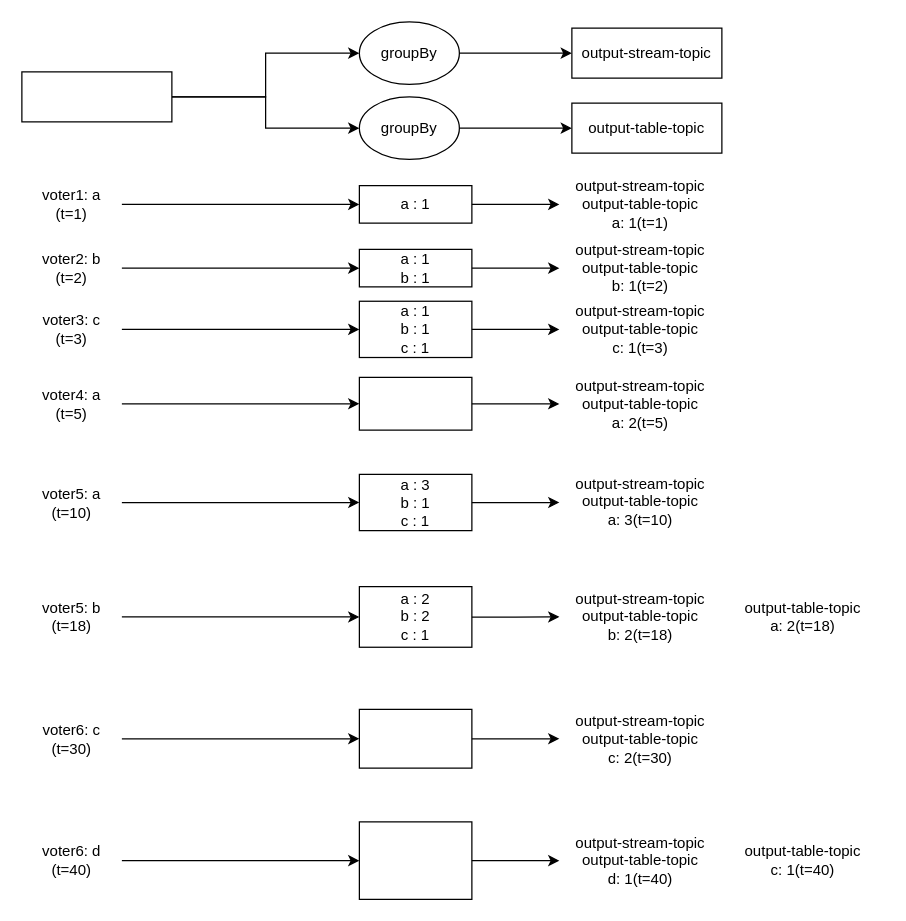
Some shapes in this 906 by 921 pixel diagram are drawn without their labels. The shapes that lost their labels are listed below. From the top down, each one's centre as x and y in pixels, then its label:
At pixel 96 96: "input-topic".
At pixel 415 403: "a : 2 b : 1 c : 1".
At pixel 415 738: "a : 2 b : 2 c : 2".
At pixel 415 860: "a : 2 b : 2 c : 1 d : 1".
